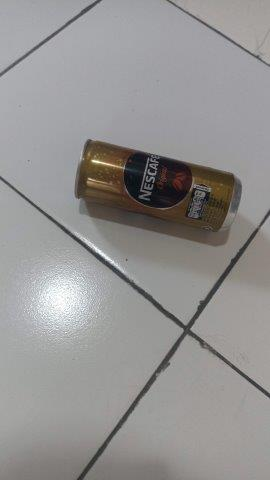kaleng: (72, 137, 244, 242)
